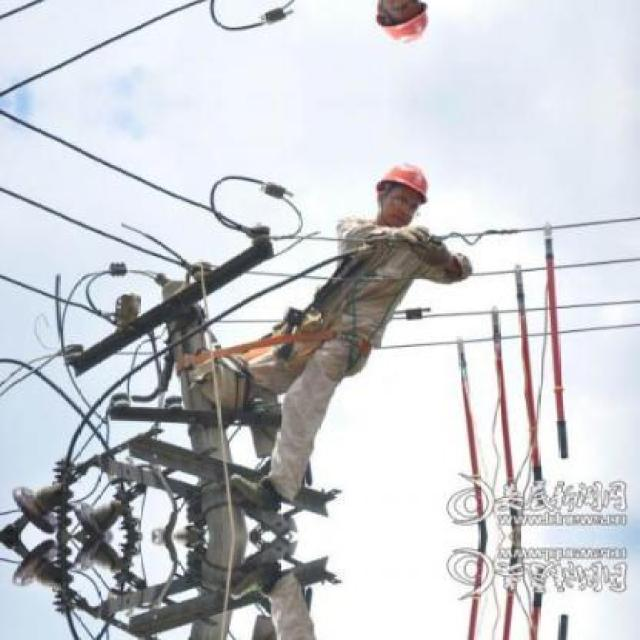helmet: (368, 156, 432, 228), (368, 0, 432, 51)
